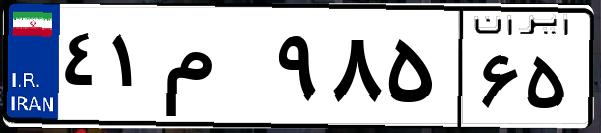1: (110, 28, 158, 98)
4: (57, 26, 110, 100)
5: (385, 28, 445, 110), (525, 38, 570, 115)
6: (475, 38, 525, 113)
8: (330, 28, 385, 110)
9: (270, 28, 330, 110)
م: (158, 20, 270, 120)
